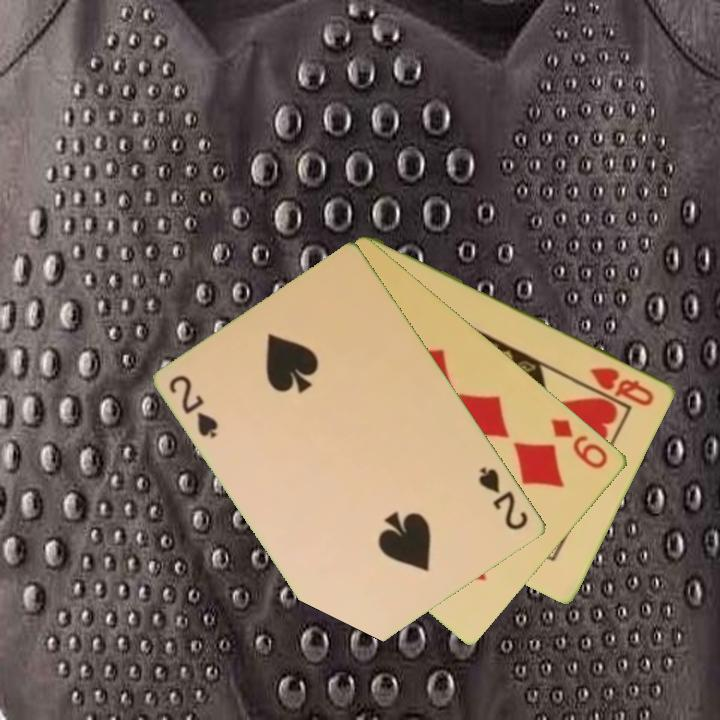2s: (475, 463, 532, 534), (165, 371, 222, 442)
9d: (548, 414, 612, 472)
Qh: (587, 363, 658, 409)
